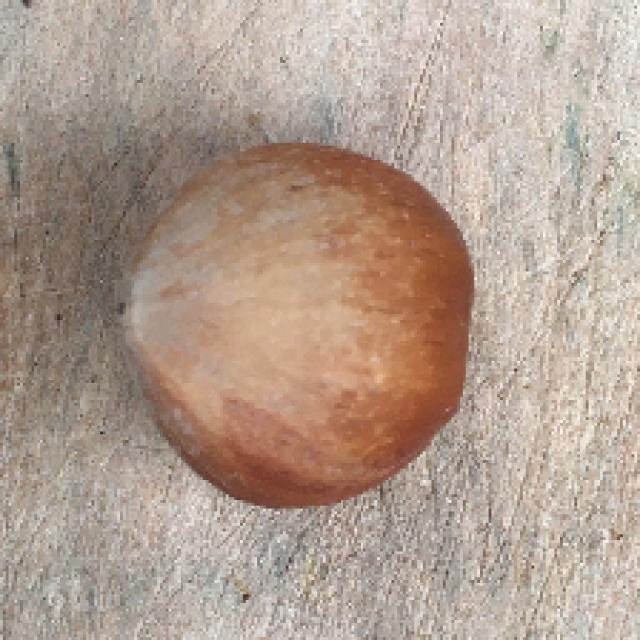qualityHazelnut: (108, 136, 479, 513)
